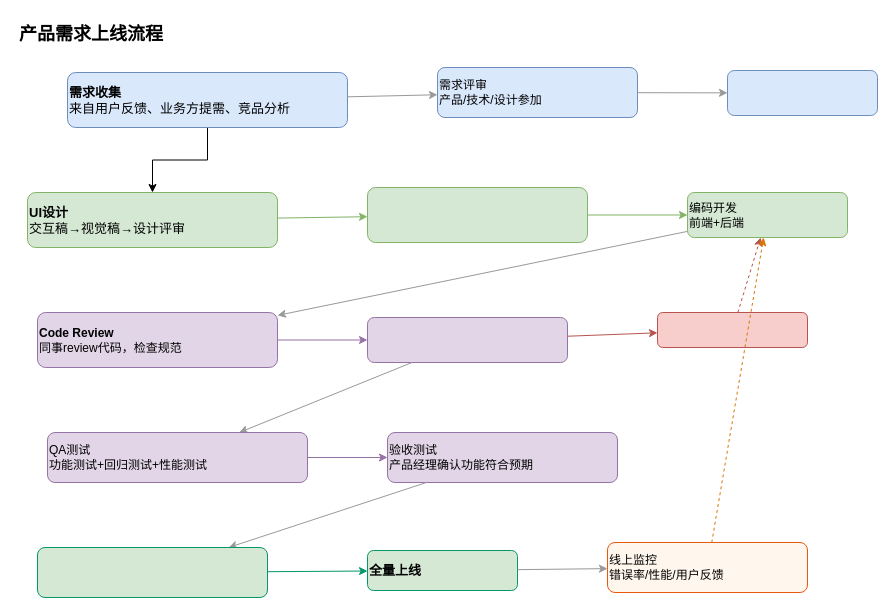
The diagram is 895 pixels wide and 615 high, and some of its shapes have lost their labels. The centre of each missing label's shape, as x and y in pixels:
不通过→打回修改: the point at 732,330
单元测试 覆盖率要求80%以上: the point at 467,339
技术方案 架构设计、接口定义、排期: the point at 477,214
排优先级 P0/P1/P2: the point at 802,93
灰度发布 先小流量验证，观察指标: the point at 152,572
